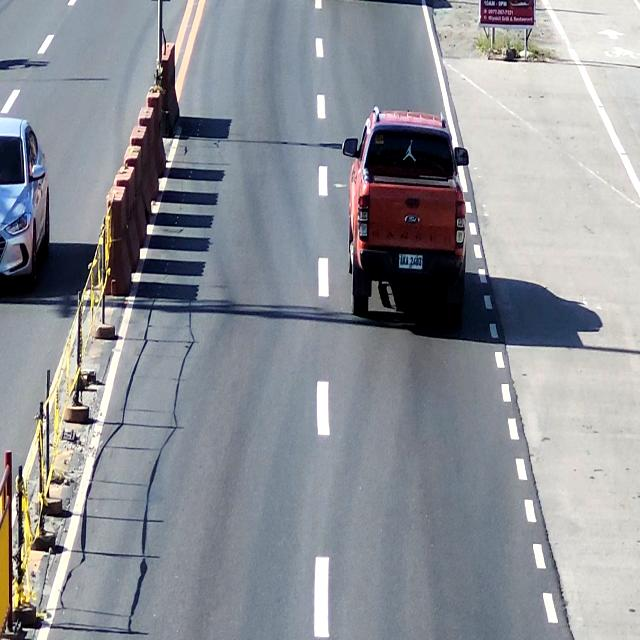Car: (347, 111, 471, 339), (0, 117, 45, 291)
License-Plate: (396, 249, 425, 277)
